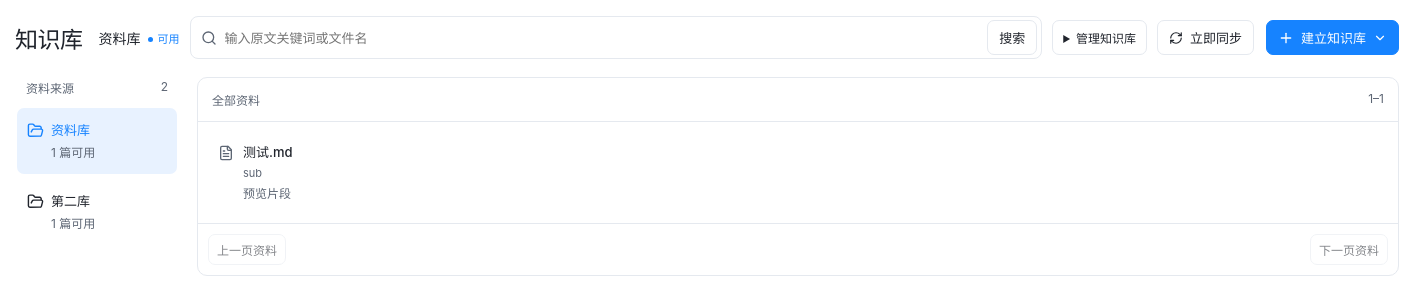
Test: switching libraries discards late results and clears the old preview
Click the button with aria-label "sub/测试.md": point(268, 152) x1=208 y1=132 x2=1373 y2=213
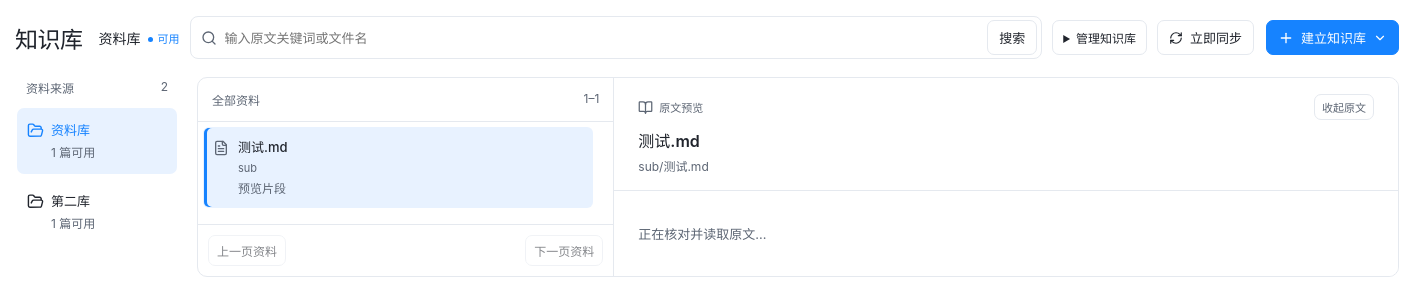
Click the button "第二库": point(97, 212) x1=17 y1=179 x2=177 y2=245
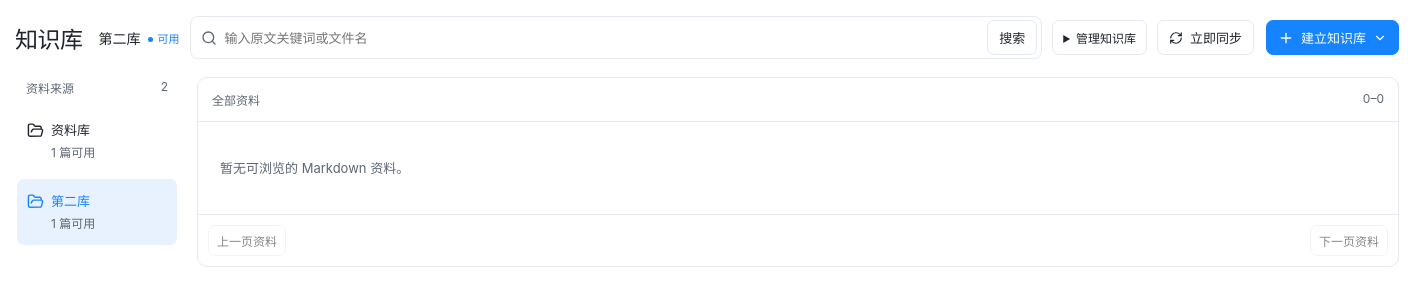
Expected: the text "sub/测试.md" is gone
Expected: the text "暂无可浏览的 Markdown 资料。" is shown, x1=220 y1=160 x2=409 y2=176
